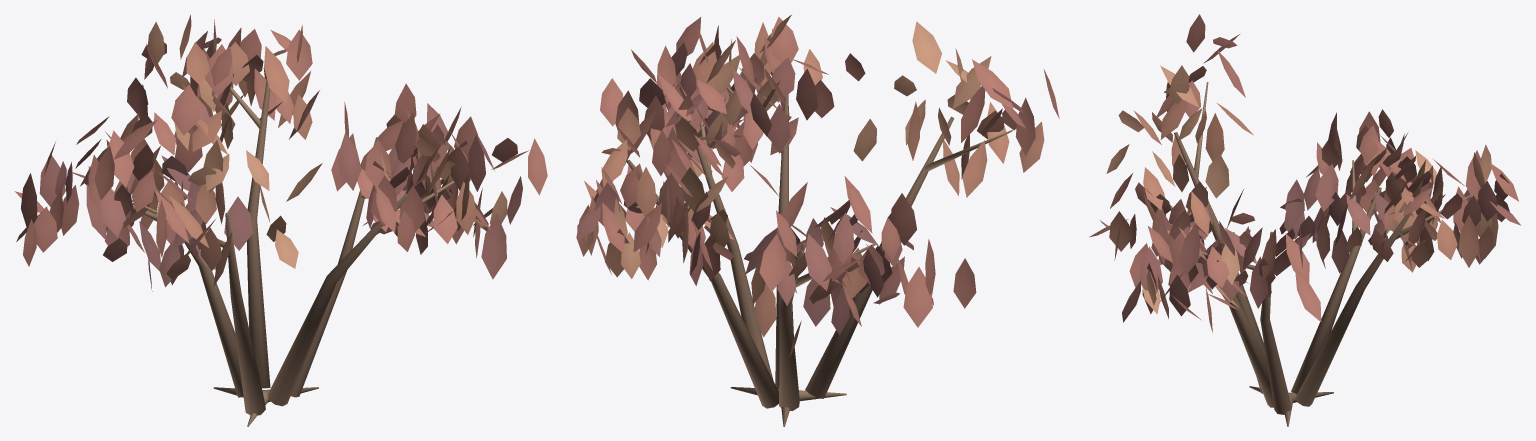
Rendered from bush_3d_01_red.glb.
The picture shows the model from 3 angles, left to right: view 1: azimuth 30°, elevation 25°; view 2: azimuth 150°, elevation 25°; view 3: azimuth 270°, elevation 25°; orthographic projection. The views are drawn at different scales.
Visible parts, largest first — view 1: bush_3d_01_red_foliage, bush_3d_01_red_wood; view 2: bush_3d_01_red_foliage, bush_3d_01_red_wood; view 3: bush_3d_01_red_foliage, bush_3d_01_red_wood.
Boxes of the visible parts, box(x1,y1,x2,y2) form: bush_3d_01_red_foliage: box(14, 14, 547, 291); bush_3d_01_red_wood: box(131, 79, 454, 426); bush_3d_01_red_foliage: box(576, 14, 1059, 357); bush_3d_01_red_wood: box(627, 86, 1012, 426); bush_3d_01_red_foliage: box(1089, 14, 1521, 333); bush_3d_01_red_wood: box(1170, 82, 1470, 426).
Bounding box in the file's own units: 1.74 × 1.32 × 1.7.
